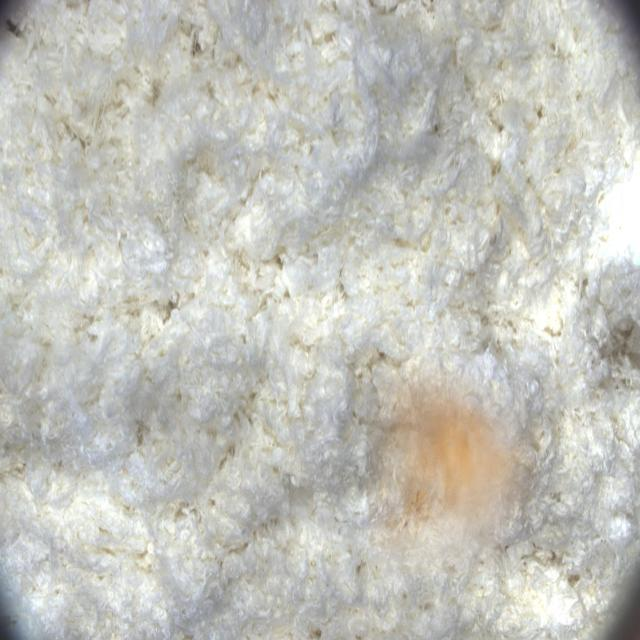dust: (367, 358, 541, 576)
